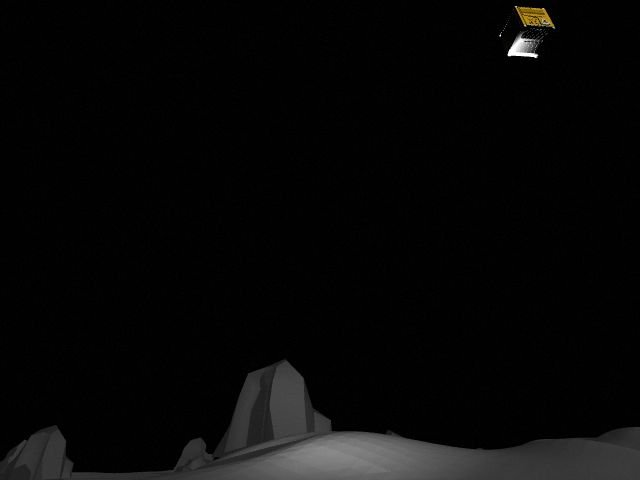cubesat: (492, 1, 559, 67)
